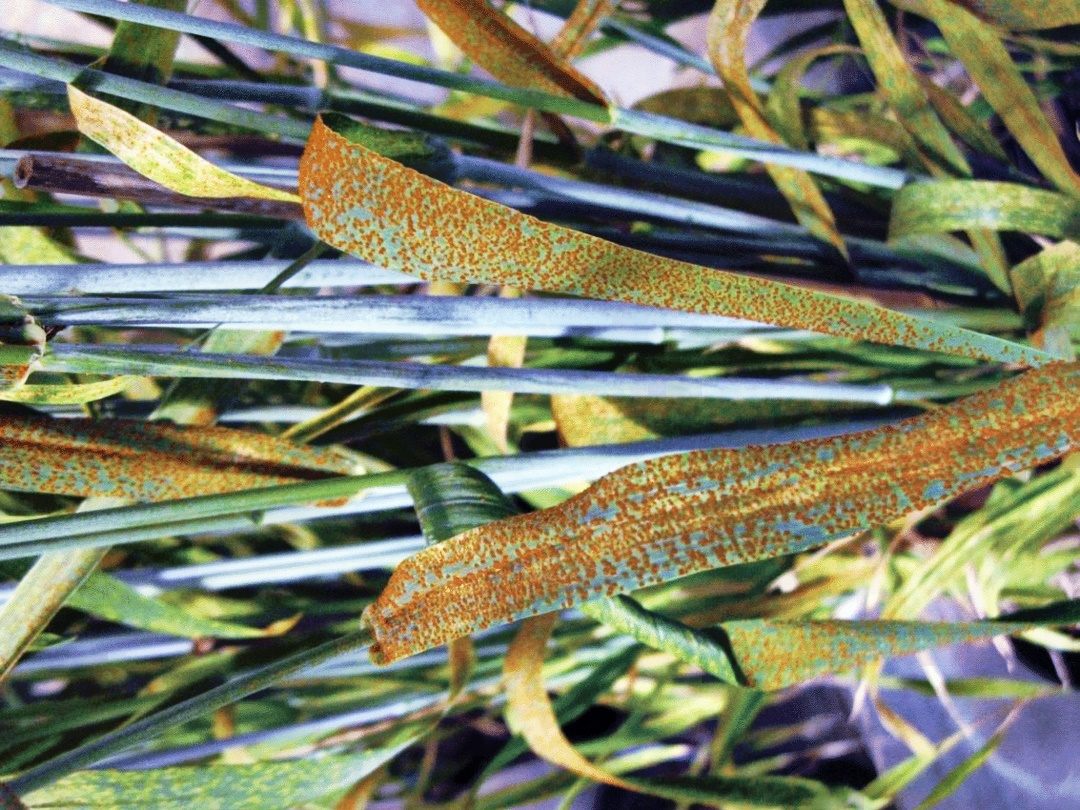Leaf Rust: (400, 373, 1050, 650), (302, 140, 896, 340)
